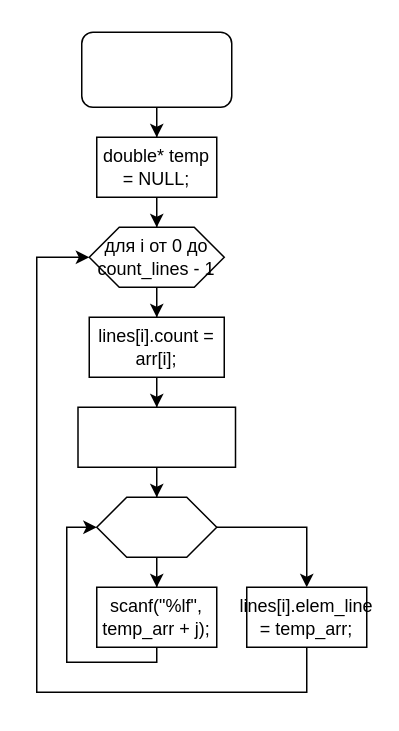
The diagram is 399 pixels wide and 731 high, and some of its shapes have lost their labels. The centre of each missing label's shape, as x and y in pixels:
"get_lines (int count_lines, Line* lines, int count, int* arr)" belongs at point 156,69.
"temp = (double*) (calloc(arr[i], sizeof(double)));" belongs at point 156,436.
"для j от 0 до arr[i] - 1" belongs at point 156,526.
